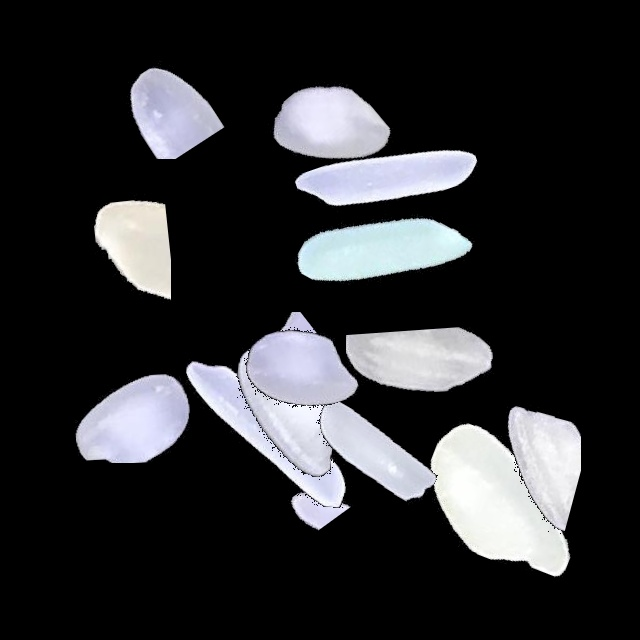Broken: (6, 298, 256, 463), (27, 4, 277, 159), (428, 335, 581, 585), (346, 280, 496, 530), (150, 312, 400, 418), (70, 137, 171, 387), (278, 343, 370, 593)
Full: (141, 310, 391, 560), (160, 285, 410, 535), (378, 373, 628, 623), (203, 2, 453, 252), (251, 327, 501, 577), (262, 53, 512, 303), (256, 129, 506, 379), (175, 242, 425, 492)
